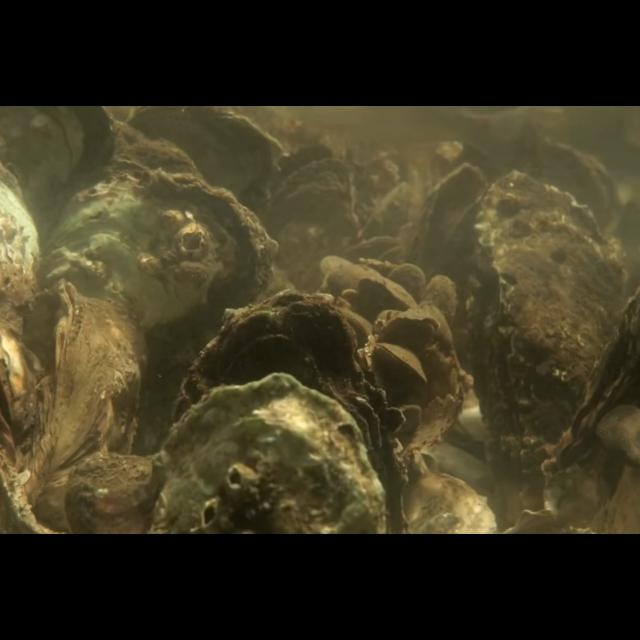Oyster-Closed: (45, 166, 279, 444), (173, 289, 404, 535), (146, 372, 384, 534), (28, 279, 146, 535), (410, 162, 490, 318), (358, 273, 418, 309), (387, 262, 427, 310), (383, 315, 441, 347), (424, 274, 456, 324)
Oyster-Open: (465, 170, 625, 466), (540, 282, 640, 502), (258, 142, 354, 284), (373, 342, 427, 384)
